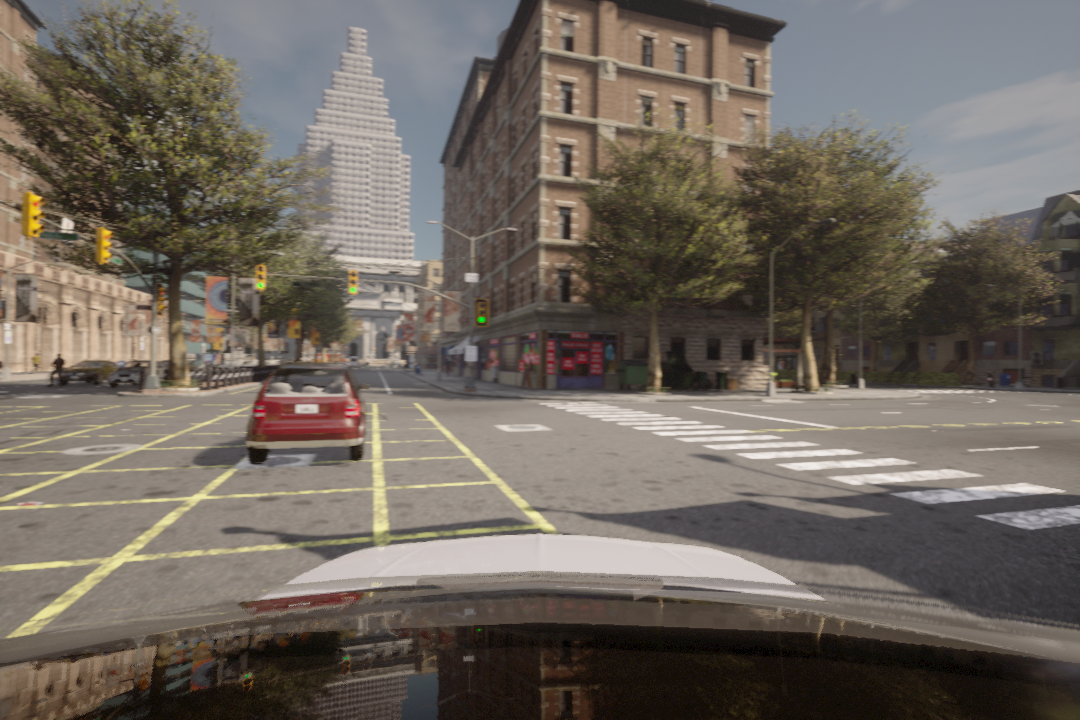TrafficLight: (23, 190, 42, 239), (96, 229, 112, 267), (475, 298, 491, 331), (344, 269, 360, 297), (256, 263, 266, 294)
walkside: (542, 400, 1079, 531)
